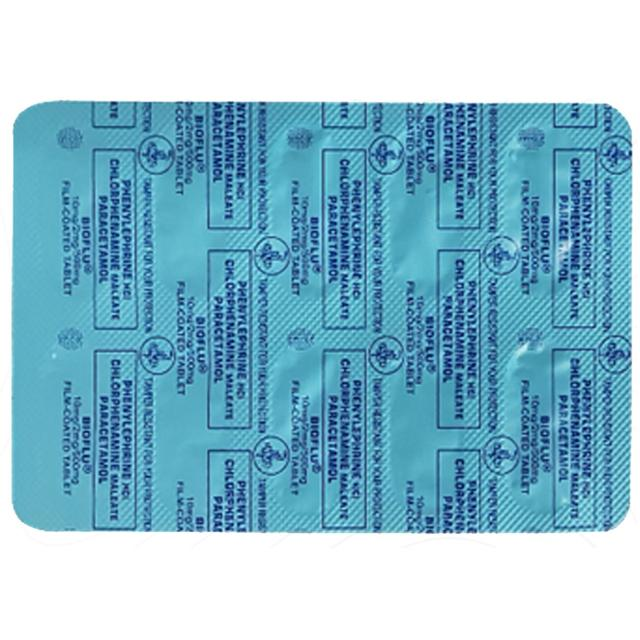blister: (5, 96, 634, 538)
